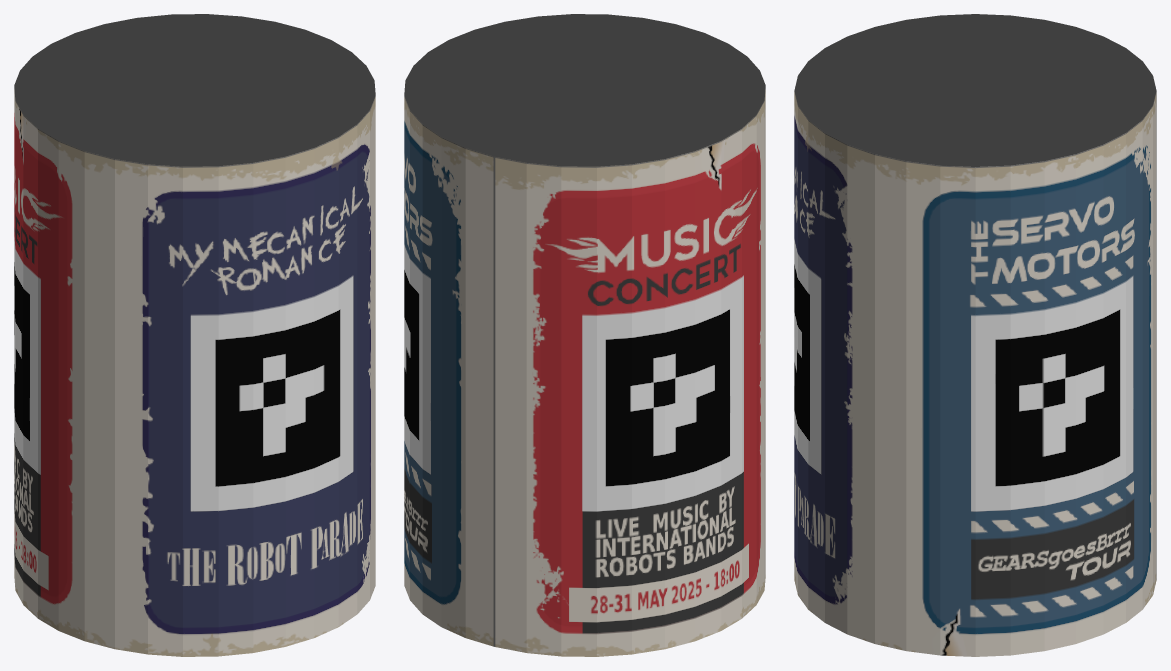
File: canv2.dae
3 renders of one model, left to right at view 1: azimuth 30°, elevation 25°; view 2: azimuth 150°, elevation 25°; view 3: azimuth 270°, elevation 25°, orthographic.
Visible parts, largest first — view 1: Cylinder; view 2: Cylinder; view 3: Cylinder.
Boxes of the visible parts, bbox=[...] form: Cylinder: bbox=[14, 14, 375, 656]; Cylinder: bbox=[404, 14, 765, 656]; Cylinder: bbox=[794, 14, 1156, 656].
Bounding box in the file's own units: 0.073 × 0.073 × 0.109.
Materials: 1 (1 with a texture image).
